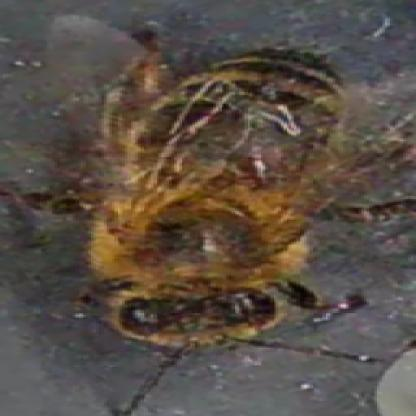bee: (100, 47, 356, 352)
